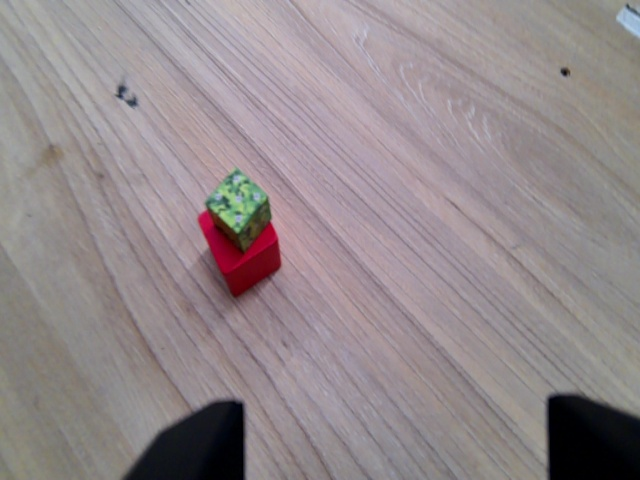grass: (208, 170, 274, 249)
